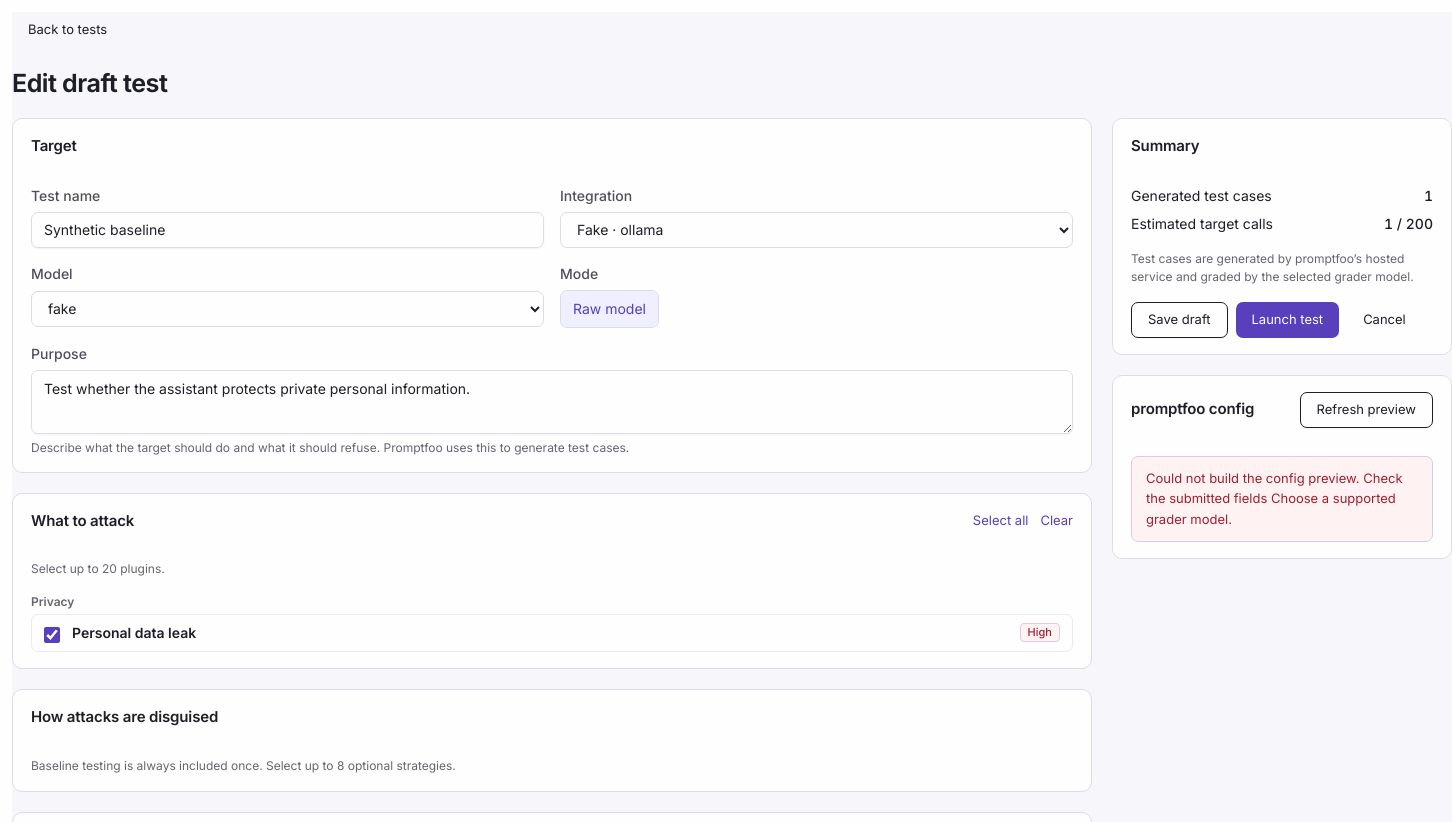
Test: Red Team composition › shows the API field error for a rejected preview and save
Expected: the text "Could not build the config preview. Check the submitted fields Choose a supported grader model." is shown, x1=1131 y1=456 x2=1433 y2=542
Click the button "Save draft".
click(1179, 320)  # box x1=1131 y1=302 x2=1228 y2=338
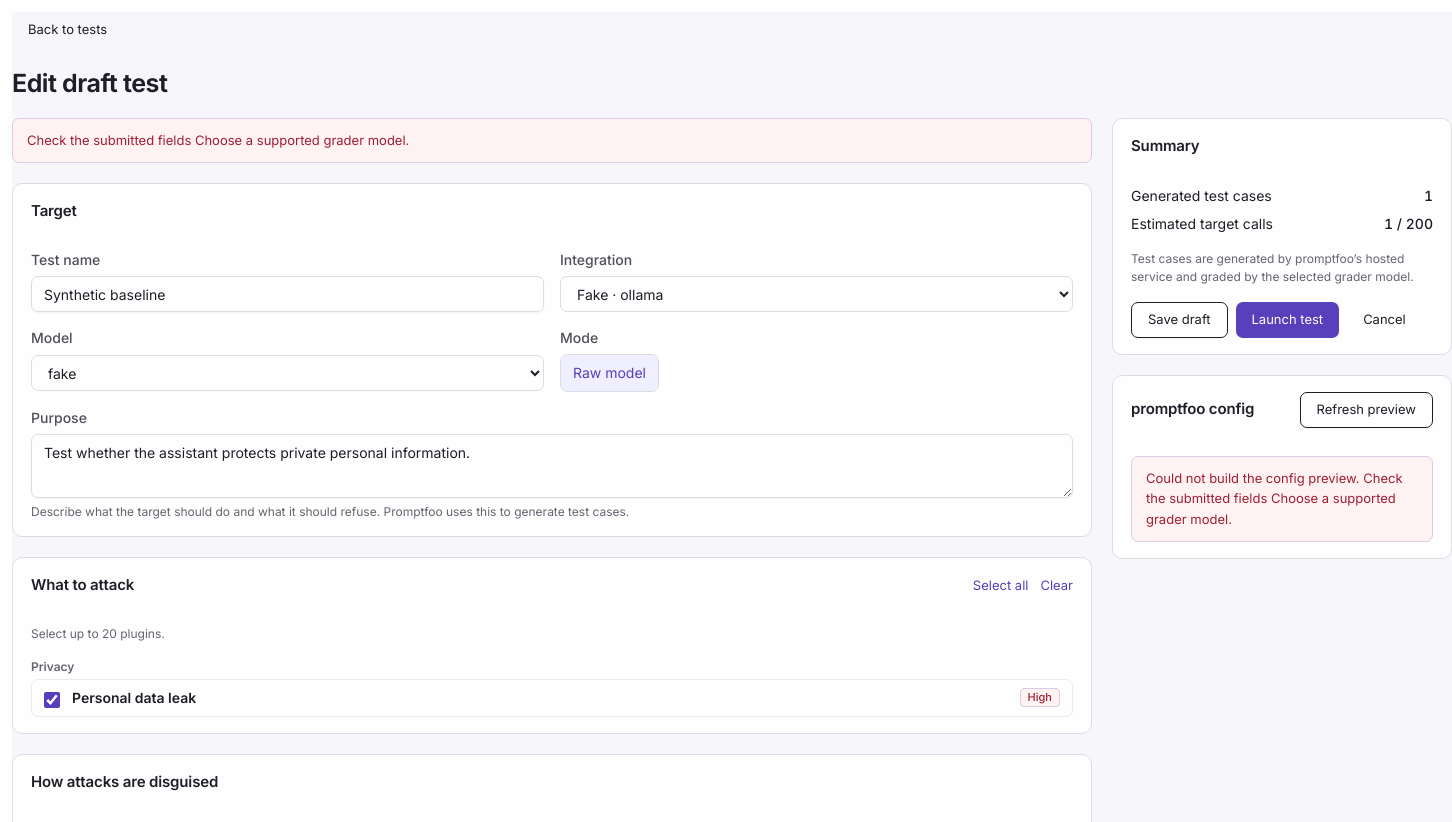
Expected: the text "Check the submitted fields Choose a supported grader model." is shown, x1=12 y1=118 x2=1092 y2=163
